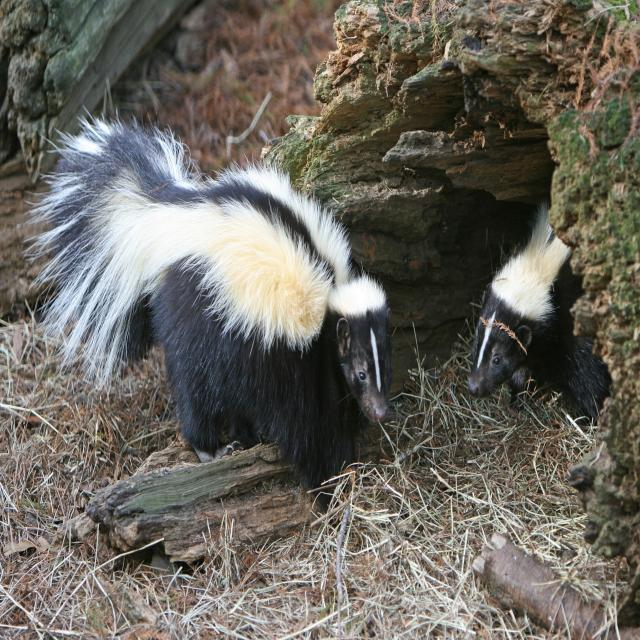Skunk: (39, 79, 406, 500)
